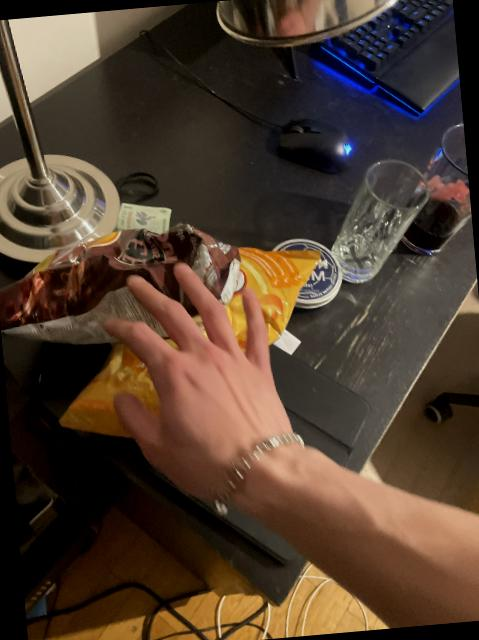Chio Hula Hoops Cheese 70g: (46, 234, 330, 447)
Lays Beef Grilled Ribs 125g: (0, 218, 245, 355)
